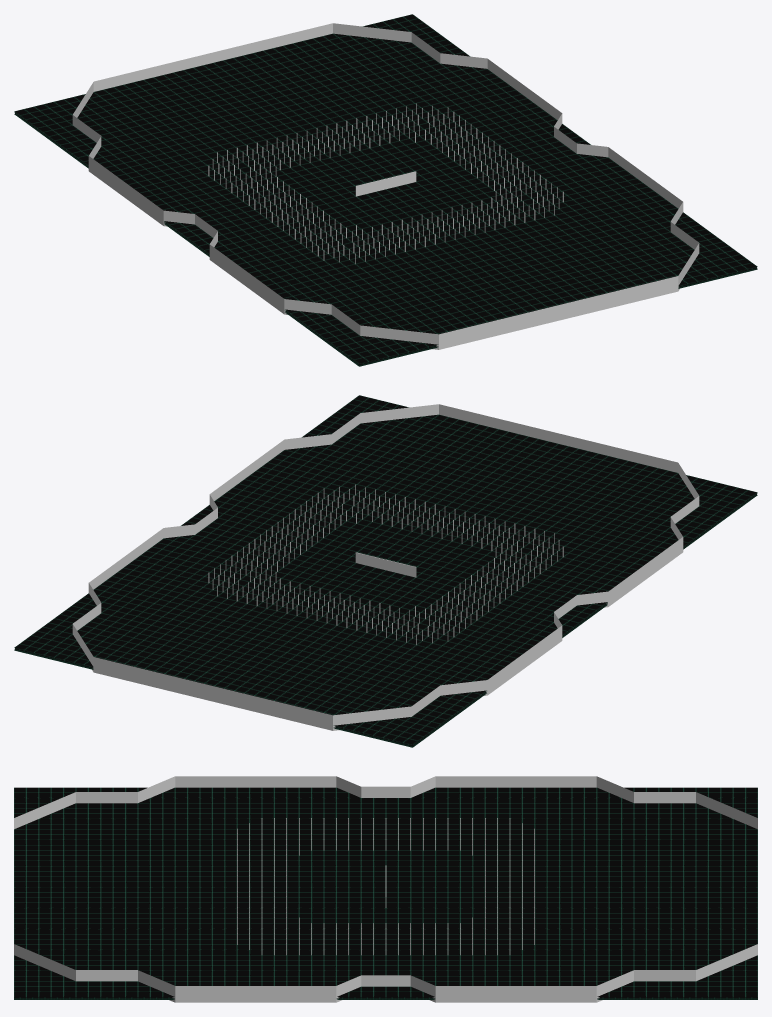
The model's file is arena.fbx.
The picture shows the model from 3 angles, top to bottom: view 1: azimuth 30°, elevation 25°; view 2: azimuth 150°, elevation 25°; view 3: azimuth 270°, elevation 25°; orthographic projection. The views are drawn at different scales.
Visible parts, largest first — view 1: Floor top, Wall, Poles, Wall center, Floor bottom, Floor middle; view 2: Floor top, Wall, Poles, Wall center, Floor bottom, Floor middle; view 3: Floor top, Wall, Poles, Floor middle, Floor bottom.
Boxes of the visible parts, x1,y1,x2,y2 form: Floor top: (14,14,757,363); Wall: (72,23,699,349); Poles: (208,103,563,263); Wall center: (355,171,416,196); Floor bottom: (14,114,757,366); Floor middle: (14,112,757,365); Floor top: (14,395,757,744); Wall: (72,404,699,730); Poles: (208,484,563,644); Wall center: (355,552,416,577); Floor bottom: (14,495,757,747); Floor middle: (14,493,757,746); Floor top: (14,787,757,996); Wall: (14,776,757,1002); Poles: (237,818,534,955); Floor middle: (14,997,757,998); Floor bottom: (14,998,757,999).
Bounding box in the file's own units: 80 × 3 × 120.
Materials: 3 (3 with a texture image).
